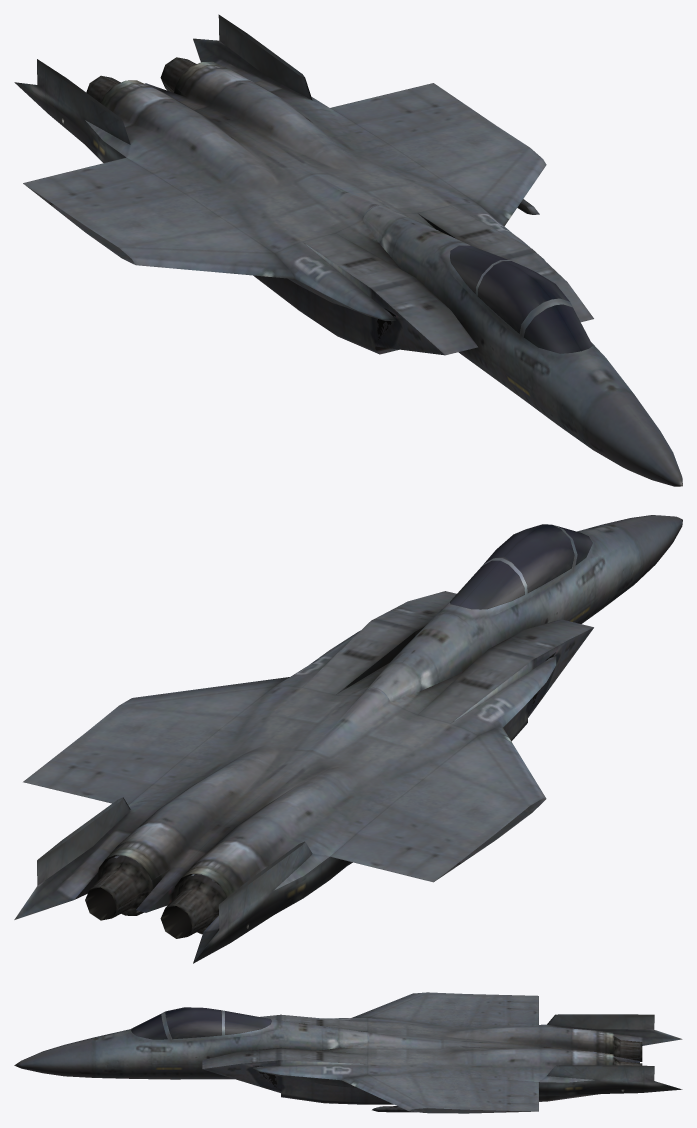
Rendered from BH_Vehicle_F15_JetFighter_Brake.fbx.
The picture shows the model from 3 angles, top to bottom: view 1: azimuth 30°, elevation 25°; view 2: azimuth 150°, elevation 25°; view 3: azimuth 270°, elevation 25°; orthographic projection. The views are drawn at different scales.
Parts seen in each view (by area): view 1: Body; view 2: Body; view 3: Body.
Part boxes in pixels (x1,y1,x2,y2): Body: (14, 14, 682, 486); Body: (14, 515, 682, 963); Body: (14, 992, 682, 1113).
Size of the model in its own units: 654 by 205 by 1597.
